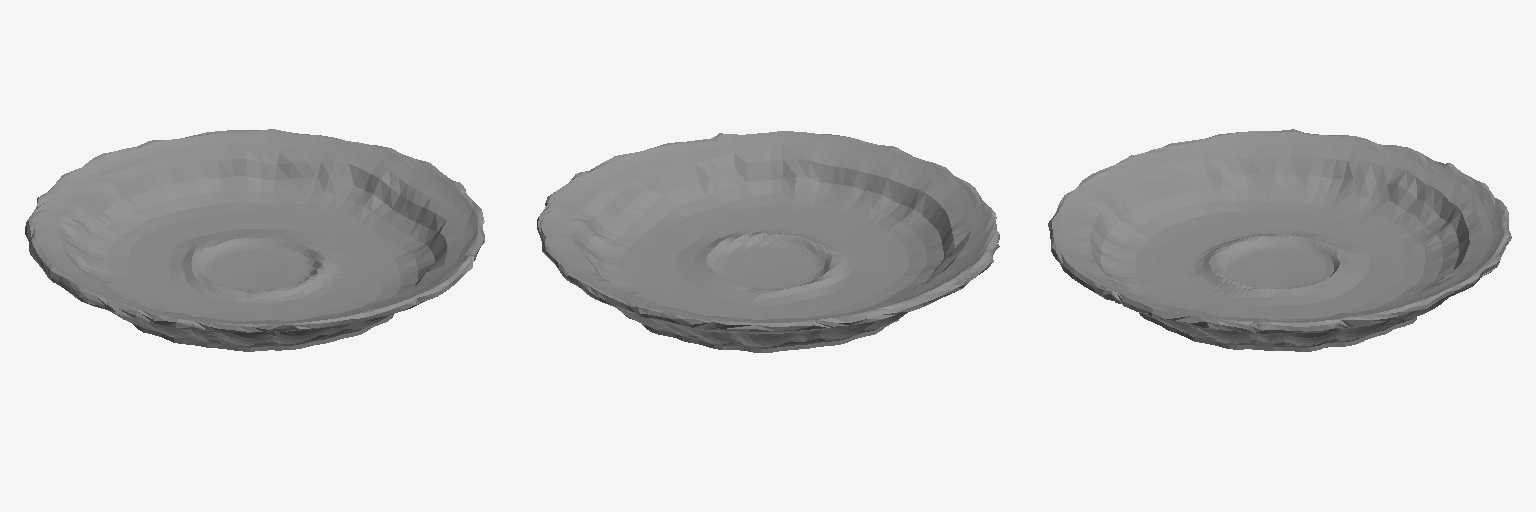
The picture shows the model from 3 angles: view 1: azimuth 30°, elevation 25°; view 2: azimuth 150°, elevation 25°; view 3: azimuth 270°, elevation 25°; orthographic projection.
Visible parts, largest first — view 1: szb_wy_58; view 2: szb_wy_58; view 3: szb_wy_58.
Part boxes in pixels (x1,y1,x2,y2): szb_wy_58: (25, 129, 484, 351); szb_wy_58: (537, 131, 999, 352); szb_wy_58: (1048, 129, 1511, 351).
Bounding box in the file's own units: 193 × 28.43 × 193.